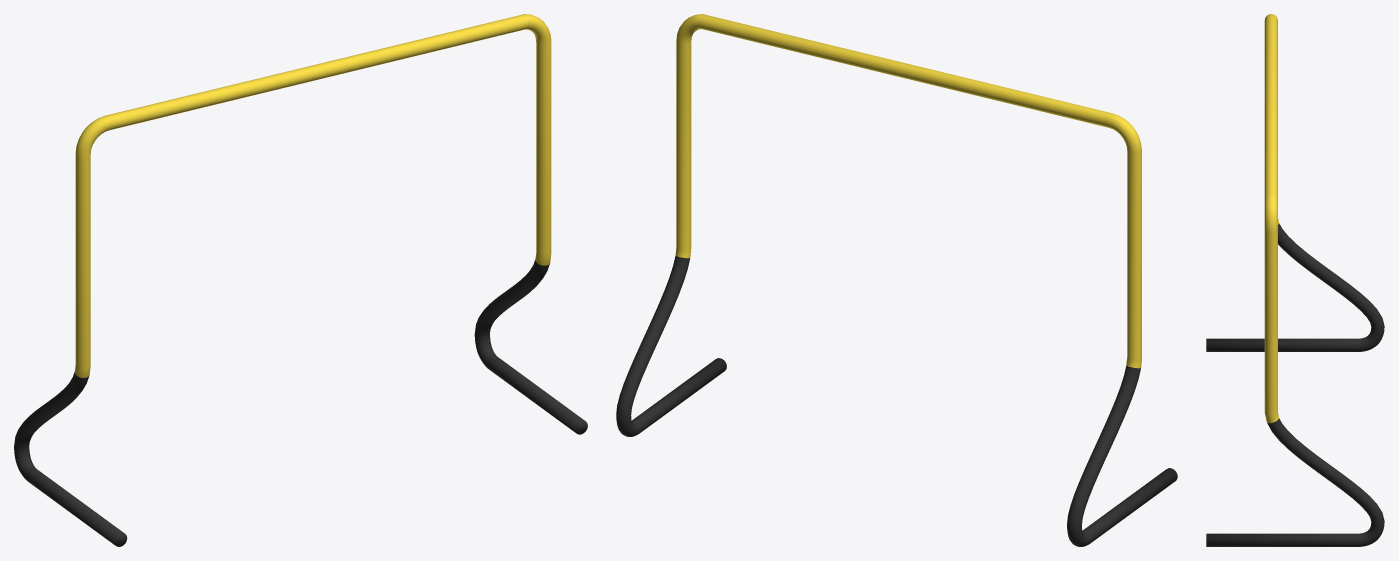
File: hardle_high.glb
The picture shows the model from 3 angles, left to right: view 1: azimuth 30°, elevation 25°; view 2: azimuth 150°, elevation 25°; view 3: azimuth 270°, elevation 25°; orthographic projection. The views are drawn at different scales.
Parts seen in each view (by area): view 1: SpeedHurdle_high; view 2: SpeedHurdle_high; view 3: SpeedHurdle_high.
Part boxes in pixels (x1,y1,x2,y2): SpeedHurdle_high: (14, 14, 587, 546); SpeedHurdle_high: (616, 14, 1177, 546); SpeedHurdle_high: (1206, 14, 1384, 546).
Bounding box in the file's own units: 1.5 × 1.2 × 0.5632.
